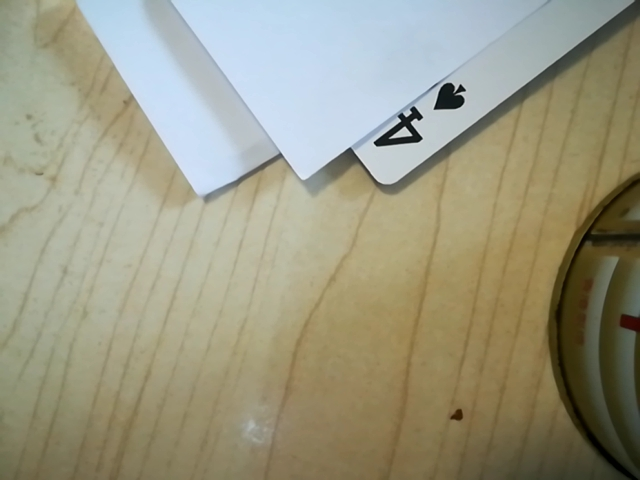ht 4: (352, 67, 481, 180)
